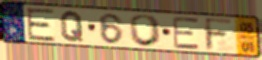6: (97, 12, 126, 45)
E: (25, 7, 57, 43), (171, 16, 202, 51)
F: (203, 17, 235, 53)
O: (129, 14, 164, 49)
Q: (59, 10, 85, 43)
